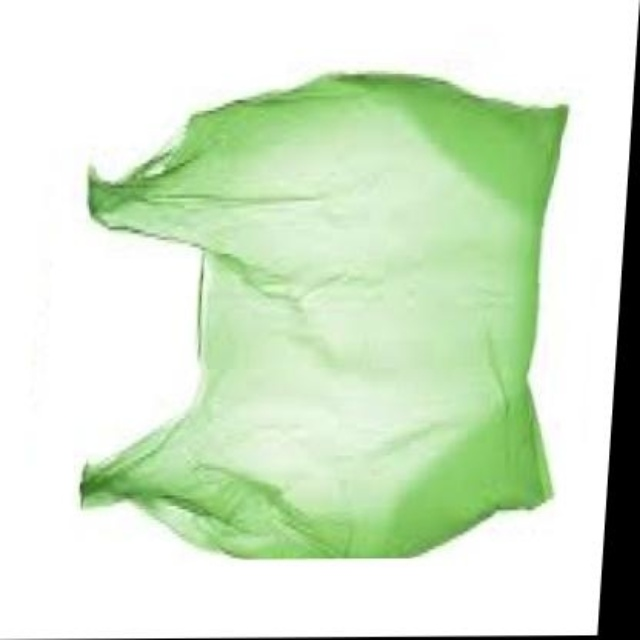trash: (82, 74, 566, 557)
